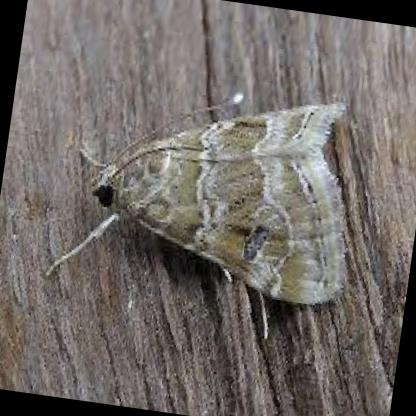Hellula undalis: (37, 83, 349, 354)
